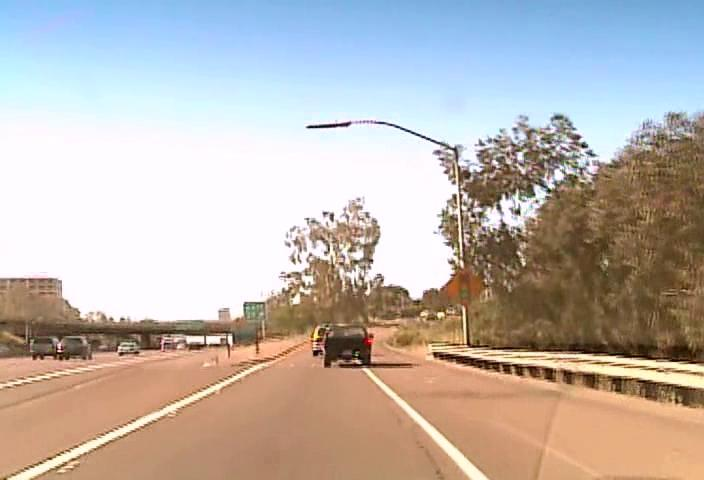signalAhead: (440, 267, 484, 307)
